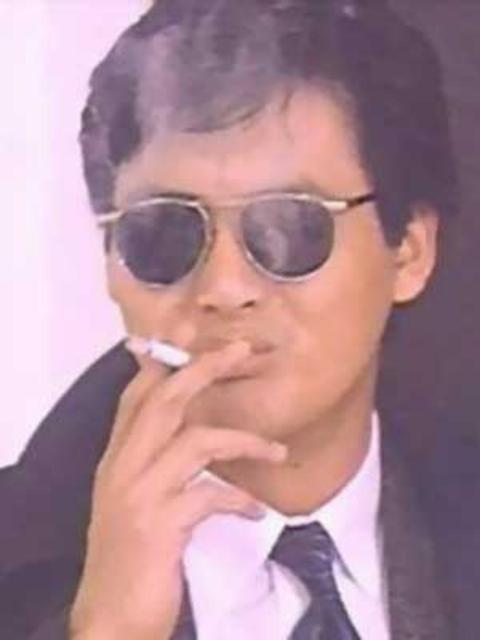Smoking: (118, 334, 192, 374)
